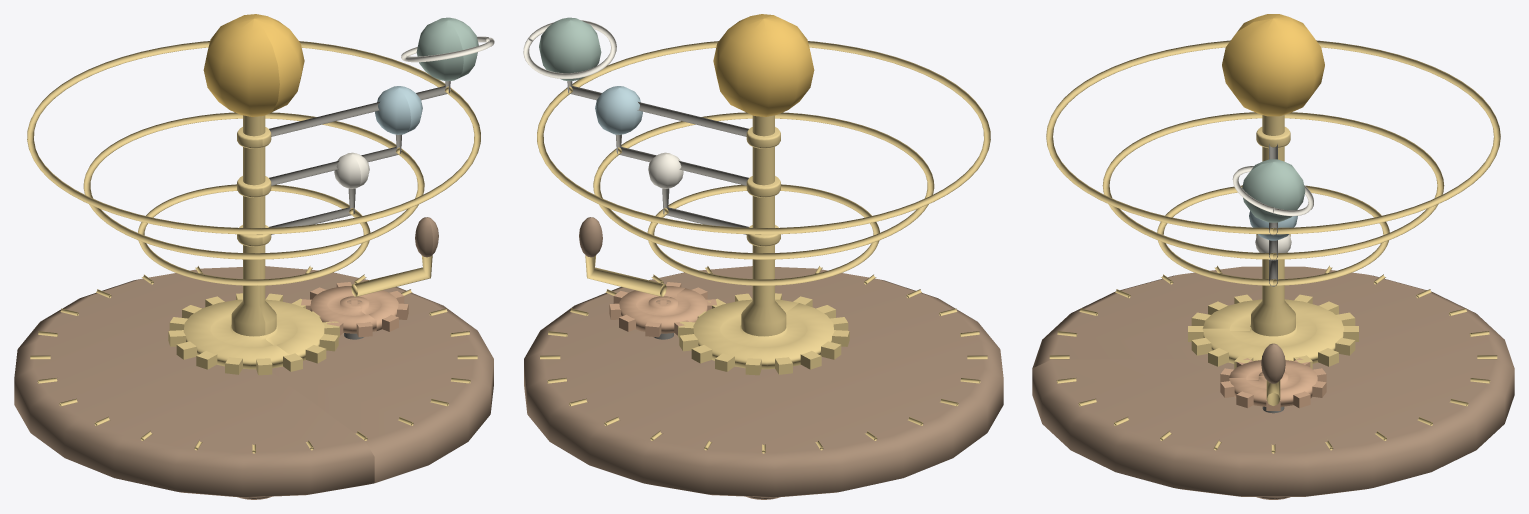
File: orrery.glb
The picture shows the model from 3 angles, left to right: view 1: azimuth 30°, elevation 25°; view 2: azimuth 150°, elevation 25°; view 3: azimuth 270°, elevation 25°; orthographic projection.
Parts seen in each view (by area): view 1: Orrery_Walnut_Base, Orrery_Solar_Axis, Orrery_Gear_Drive, Orrery_Orbit_Frame_2, Orrery_Orbit_Frame_1, Orrery_Orbit_Frame_0, Orrery_Gear_Pinion, Orrery_Planet_2, Orrery_Planet_1, Orrery_Calibration_Marks, Orrery_Crank_Arm, Orrery_Planet_0 (+2 smaller); view 2: Orrery_Walnut_Base, Orrery_Solar_Axis, Orrery_Gear_Drive, Orrery_Orbit_Frame_2, Orrery_Orbit_Frame_1, Orrery_Orbit_Frame_0, Orrery_Gear_Pinion, Orrery_Planet_2, Orrery_Planet_1, Orrery_Calibration_Marks, Orrery_Crank_Arm, Orrery_Planet_Ring (+2 smaller); view 3: Orrery_Walnut_Base, Orrery_Solar_Axis, Orrery_Gear_Drive, Orrery_Orbit_Frame_2, Orrery_Orbit_Frame_1, Orrery_Gear_Pinion, Orrery_Orbit_Frame_0, Orrery_Planet_2, Orrery_Calibration_Marks, Orrery_Planet_Ring, Orrery_Crank_Handle.
Part boxes in pixels (x1,y1,x2,y2): Orrery_Walnut_Base: (14, 266, 493, 499); Orrery_Solar_Axis: (203, 14, 304, 336); Orrery_Gear_Drive: (168, 293, 339, 375); Orrery_Orbit_Frame_2: (27, 41, 480, 234); Orrery_Orbit_Frame_1: (83, 112, 424, 259); Orrery_Orbit_Frame_0: (138, 184, 370, 285); Orrery_Gear_Pinion: (301, 282, 408, 337); Orrery_Planet_2: (416, 17, 478, 81); Orrery_Planet_1: (375, 86, 422, 134); Orrery_Calibration_Marks: (30, 266, 477, 453); Orrery_Crank_Arm: (351, 255, 432, 296); Orrery_Planet_0: (334, 152, 369, 188); Orrery_Walnut_Base: (524, 266, 1003, 499); Orrery_Solar_Axis: (713, 14, 814, 336); Orrery_Gear_Drive: (678, 293, 849, 375); Orrery_Orbit_Frame_2: (537, 41, 990, 234); Orrery_Orbit_Frame_1: (593, 112, 934, 259); Orrery_Orbit_Frame_0: (647, 184, 879, 285); Orrery_Gear_Pinion: (609, 282, 716, 337); Orrery_Planet_2: (539, 17, 601, 81); Orrery_Planet_1: (595, 86, 642, 134); Orrery_Calibration_Marks: (540, 266, 987, 453); Orrery_Crank_Arm: (585, 255, 666, 296); Orrery_Planet_Ring: (523, 20, 616, 78); Orrery_Walnut_Base: (1032, 266, 1514, 499); Orrery_Solar_Axis: (1222, 14, 1324, 336); Orrery_Gear_Drive: (1188, 294, 1358, 368); Orrery_Orbit_Frame_2: (1046, 40, 1500, 235); Orrery_Orbit_Frame_1: (1102, 112, 1444, 260); Orrery_Gear_Pinion: (1220, 358, 1326, 410); Orrery_Orbit_Frame_0: (1157, 185, 1389, 286); Orrery_Planet_2: (1242, 159, 1305, 222); Orrery_Calibration_Marks: (1049, 265, 1497, 453); Orrery_Planet_Ring: (1232, 166, 1313, 216); Orrery_Crank_Handle: (1261, 343, 1285, 383).
Bounding box in the file's own units: 1.04 × 0.898 × 0.98.
